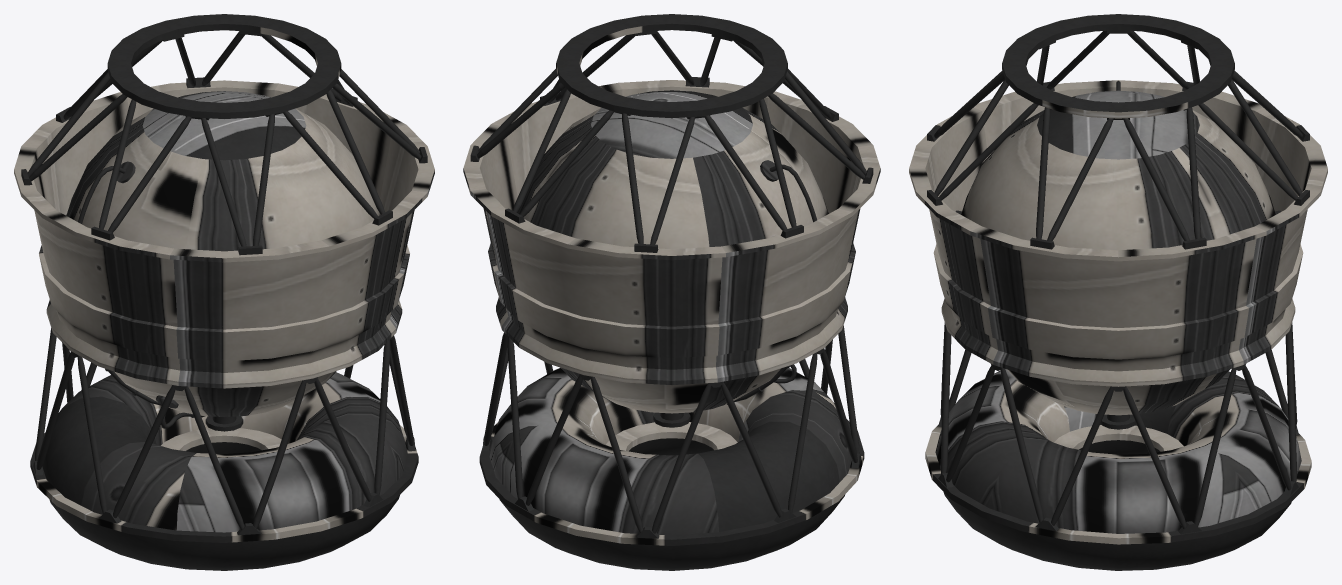
The model's file is fuel_tank_tiled.fbx.
3 renders of one model, left to right at view 1: azimuth 30°, elevation 25°; view 2: azimuth 150°, elevation 25°; view 3: azimuth 270°, elevation 25°, orthographic.
Parts seen in each view (by area): view 1: mesh, mesh_foil; view 2: mesh, mesh_foil; view 3: mesh, mesh_foil.
Boxes of the visible parts, left/top/right/bottom form: mesh: left=14, top=14, right=434, bottom=570; mesh_foil: left=66, top=91, right=380, bottom=416; mesh: left=463, top=14, right=880, bottom=570; mesh_foil: left=517, top=90, right=828, bottom=413; mesh: left=909, top=14, right=1327, bottom=570; mesh_foil: left=961, top=90, right=1275, bottom=415.
Bounding box in the file's own units: 2.25 × 2.68 × 2.25.
